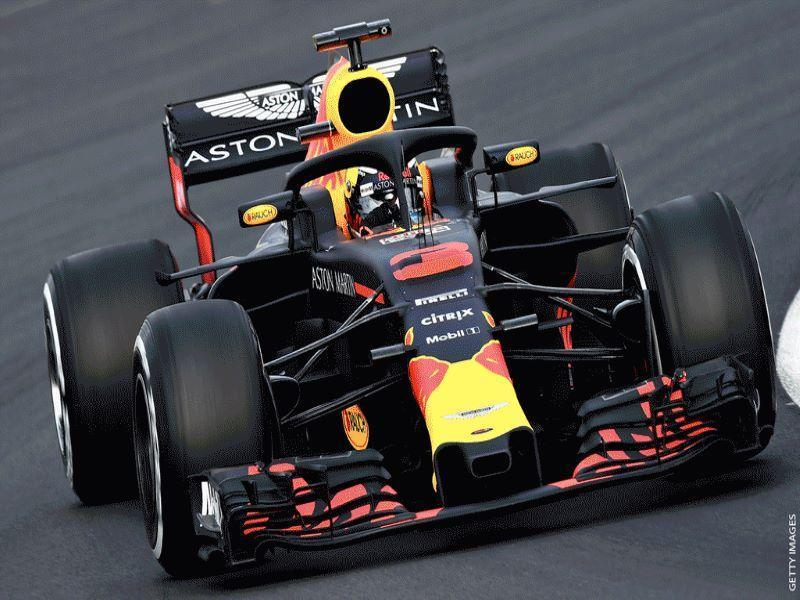f1: (35, 23, 797, 539)
